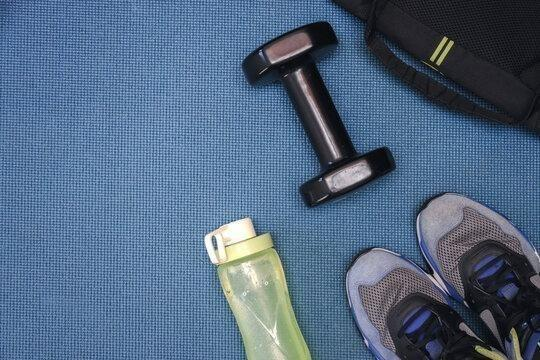gym bottle: (205, 216, 326, 359)
